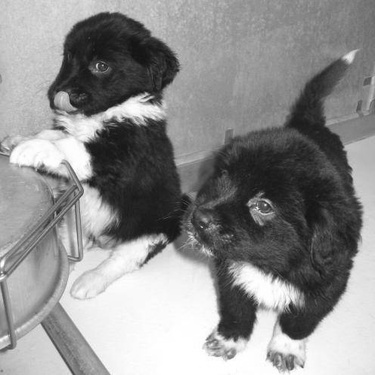dog: (176, 38, 365, 374), (1, 4, 193, 310)
